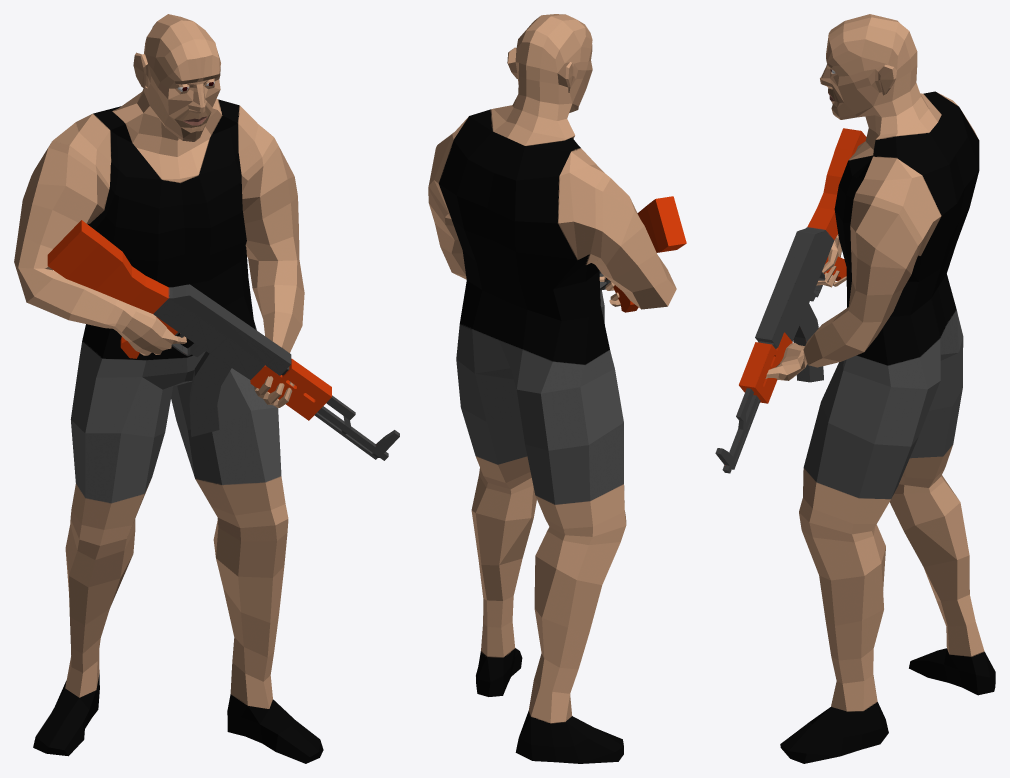
The model's file is PlayerIdle(67).obj.
The picture shows the model from 3 angles, left to right: view 1: azimuth 30°, elevation 25°; view 2: azimuth 150°, elevation 25°; view 3: azimuth 270°, elevation 25°; orthographic projection. The views are drawn at different scales.
Parts seen in each view (by area): view 1: Plane002, Object001; view 2: Plane002, Object001; view 3: Plane002, Object001.
Boxes of the visible parts, box(x1,y1,x2,y2) form: Plane002: box(14, 14, 323, 763); Object001: box(47, 220, 399, 460); Plane002: box(428, 14, 676, 763); Object001: box(599, 196, 686, 324); Plane002: box(765, 14, 995, 763); Object001: box(715, 128, 866, 473).
Bounding box in the file's own units: 730 × 1799 × 655.
